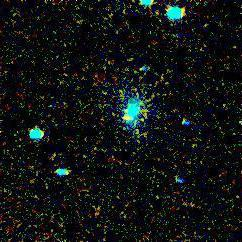star: (112, 103, 142, 133)
